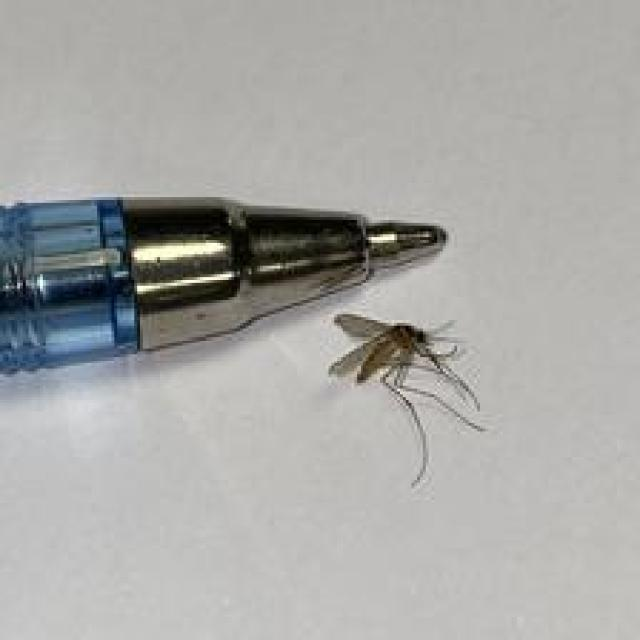Culex: (327, 312, 487, 488)
